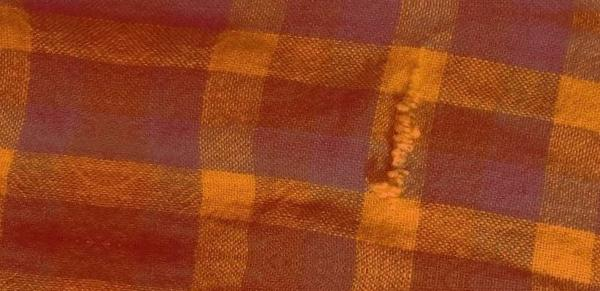knot: (369, 75, 421, 203)
